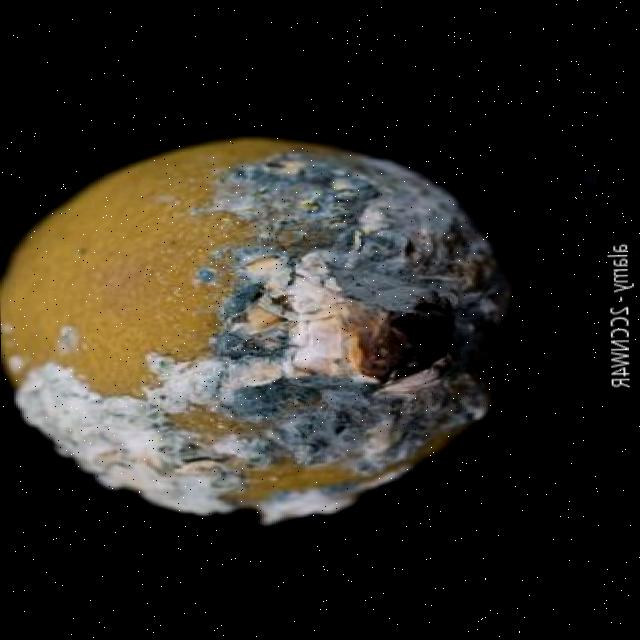Rotten: (0, 129, 515, 530)
